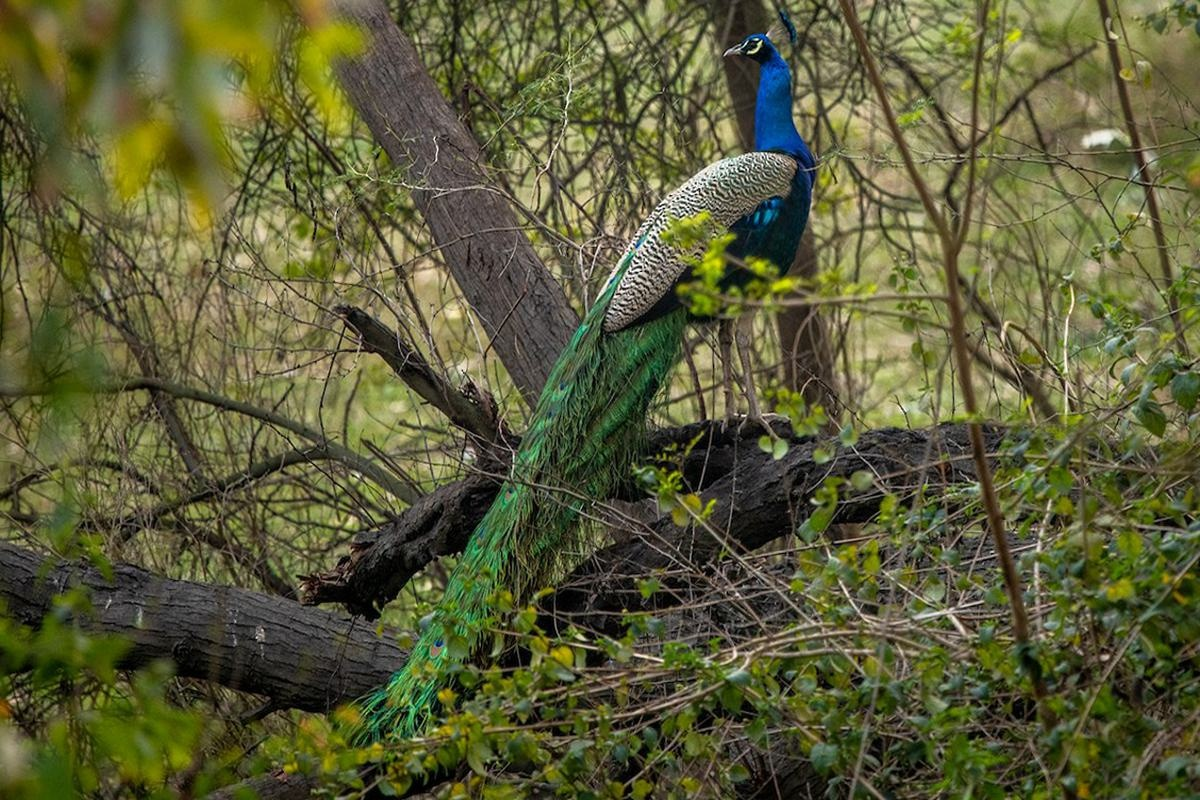peacock: (397, 23, 806, 704)
